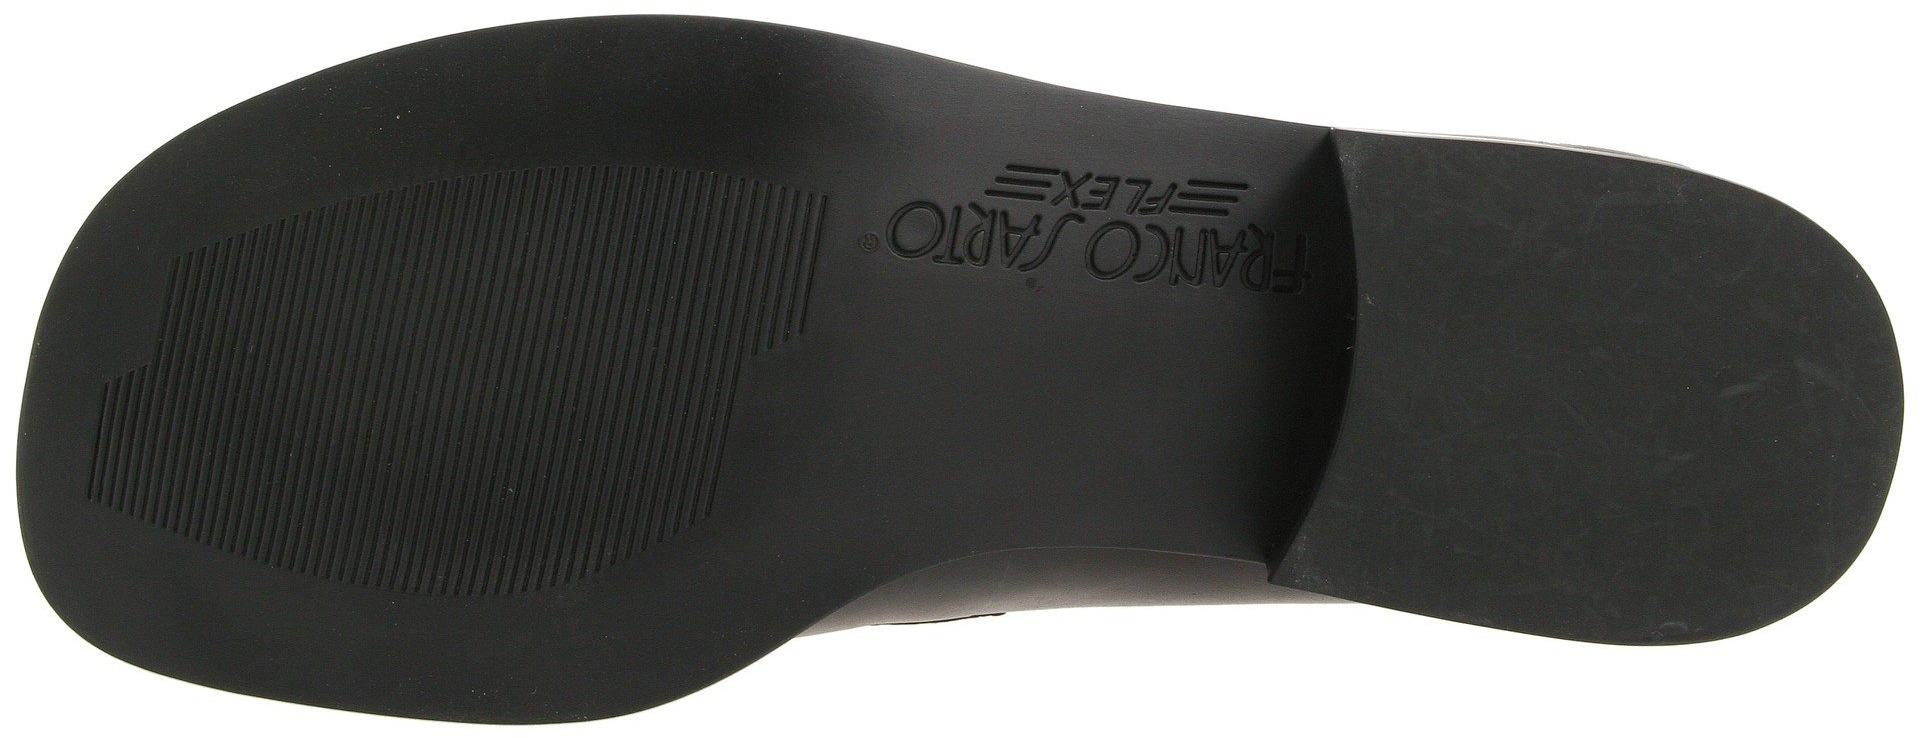exclude: (776, 21, 1371, 689)
other: (204, 255, 501, 547), (497, 176, 804, 443), (1382, 176, 1644, 445), (1653, 339, 1875, 547)
